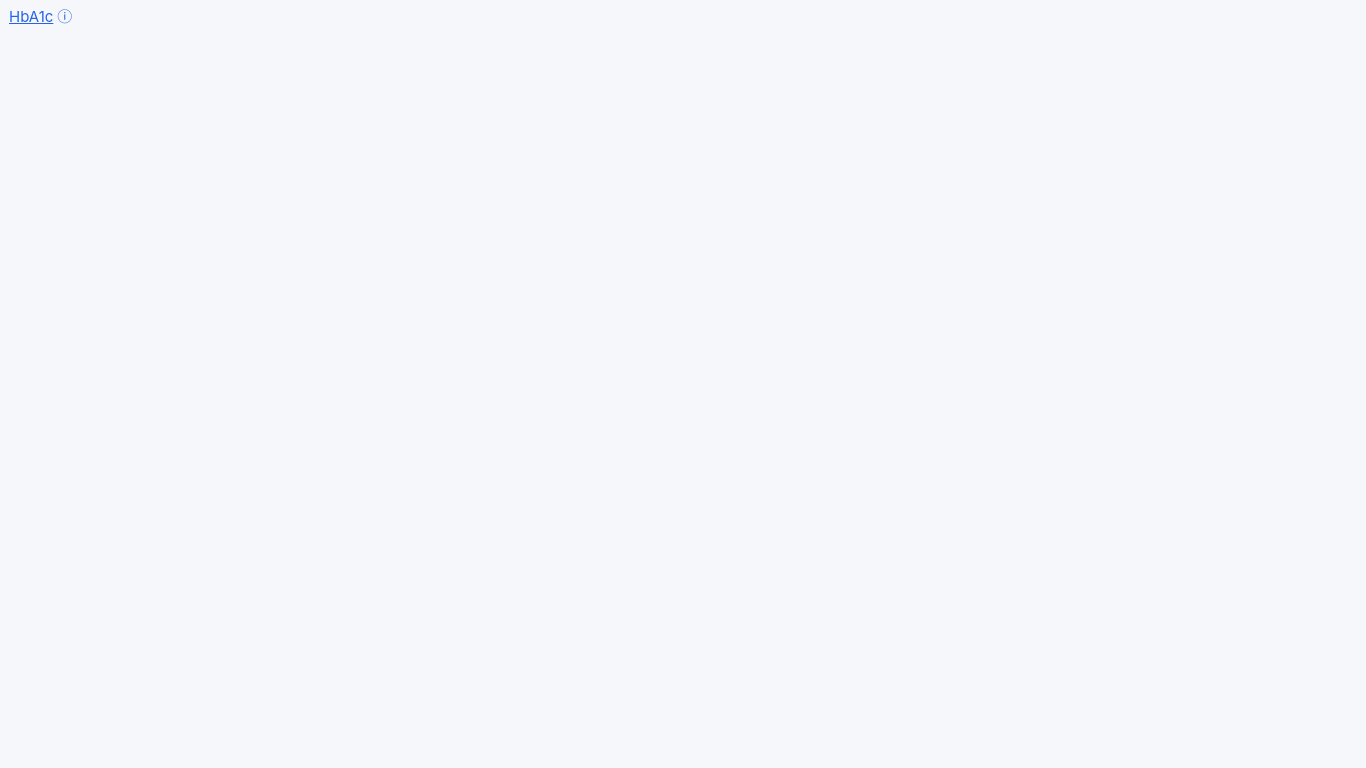
Test case: MedicalTermButton › opens the dialog on click
Click the button "HbA1c ⓘ" at {"x": 41, "y": 17}, box x1=0 y1=0 x2=81 y2=33
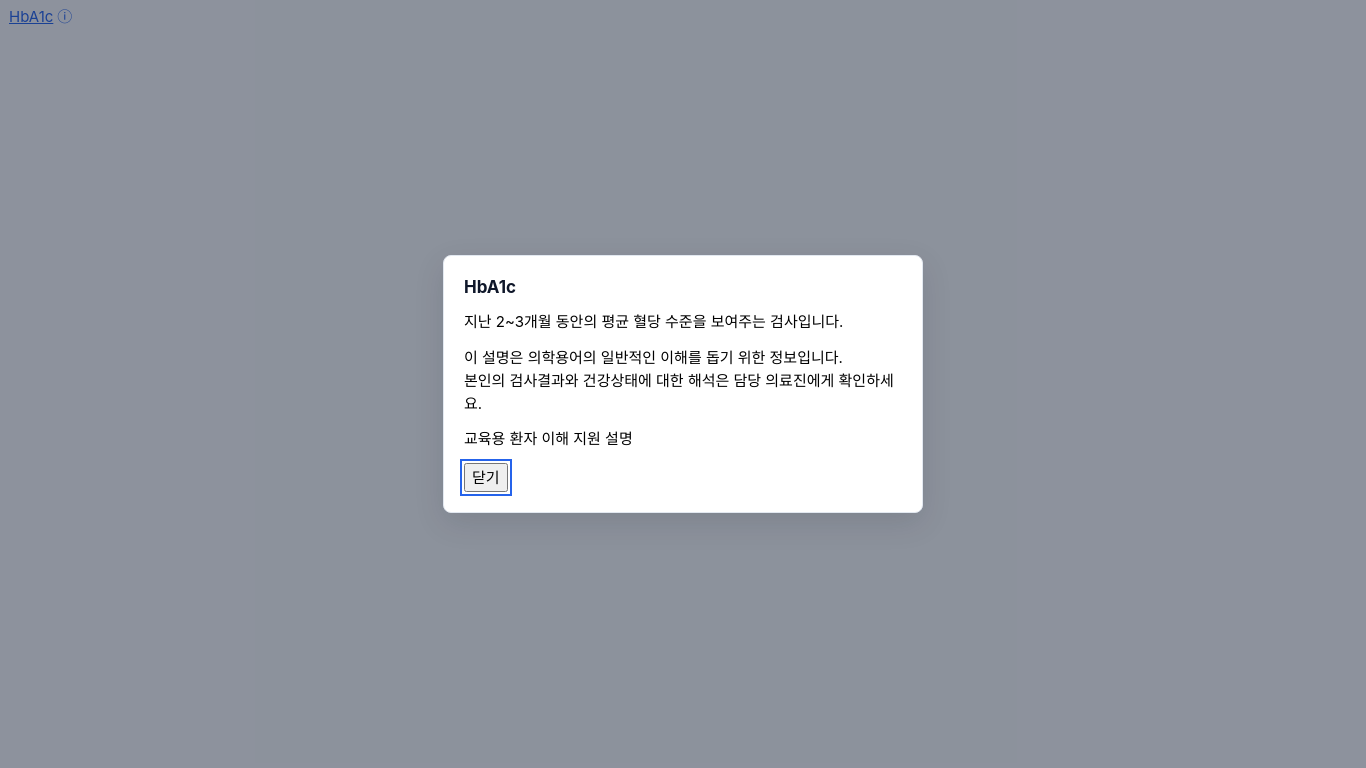
Result: the dialog is shown at x1=443 y1=255 x2=923 y2=513
